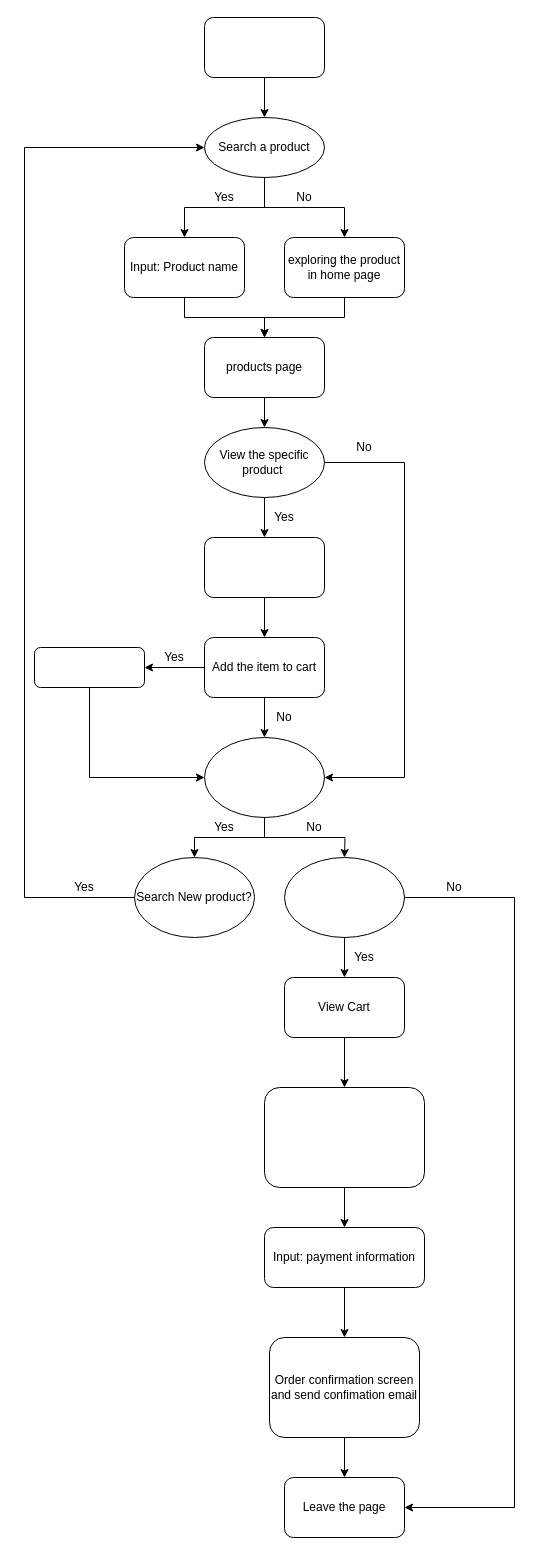
Image size: 540x1555. Some labels were removed from this diagram. The centre of each missing label's shape, as x and y in pixels:
"Checl out?" belongs at pixel 344 897.
"Confirmation page" belongs at pixel 89 667.
"Continue shopping?" belongs at pixel 264 777.
"Home page" belongs at pixel 264 47.
"specific product page" belongs at pixel 264 567.
"View Payment:" belongs at pixel 344 1137.
